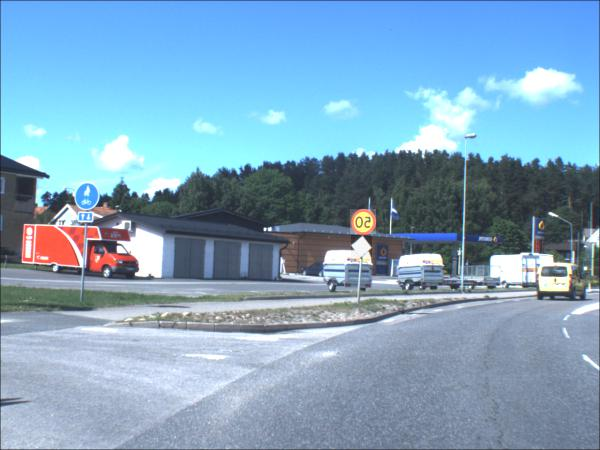50_SIGN: (350, 210, 377, 236)
PRIORITY_ROAD: (351, 236, 373, 259)
